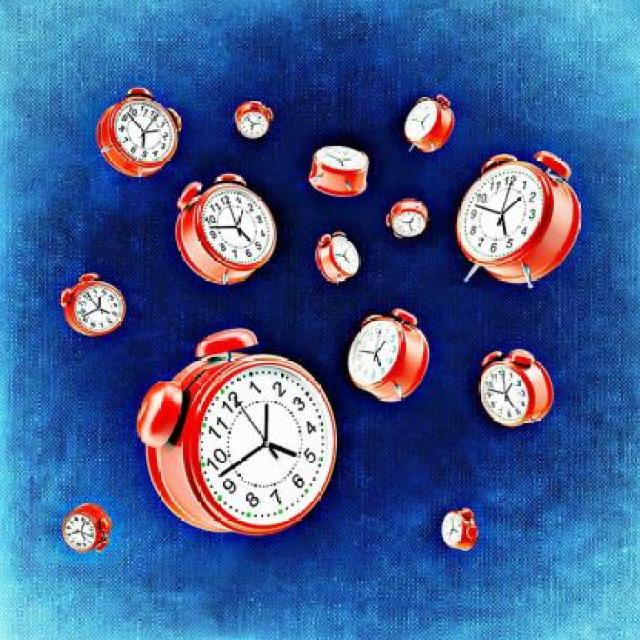clock: (205, 366, 333, 523), (453, 164, 542, 260), (202, 185, 275, 270)
